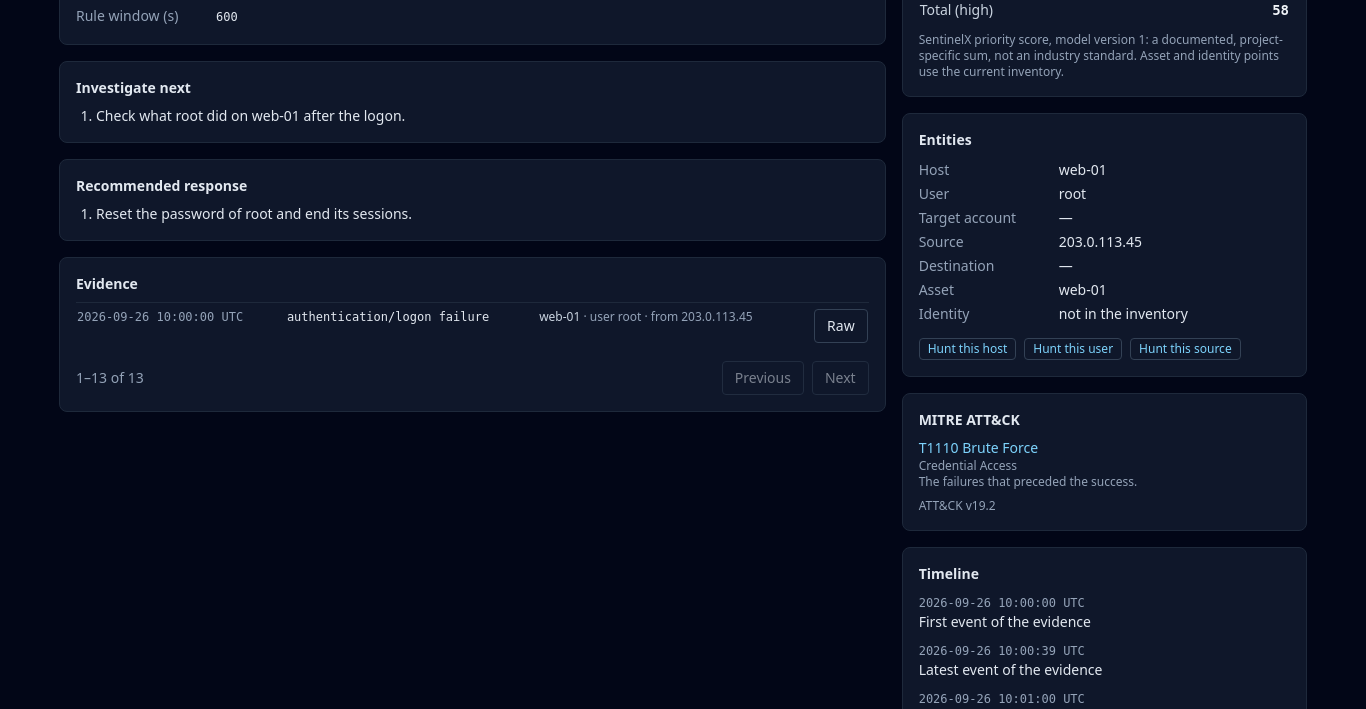
Alert page › shows raw evidence as text, never as HTML
(page scrolled)
Click the button "Raw".
click(841, 326)  # box [814, 309, 868, 343]
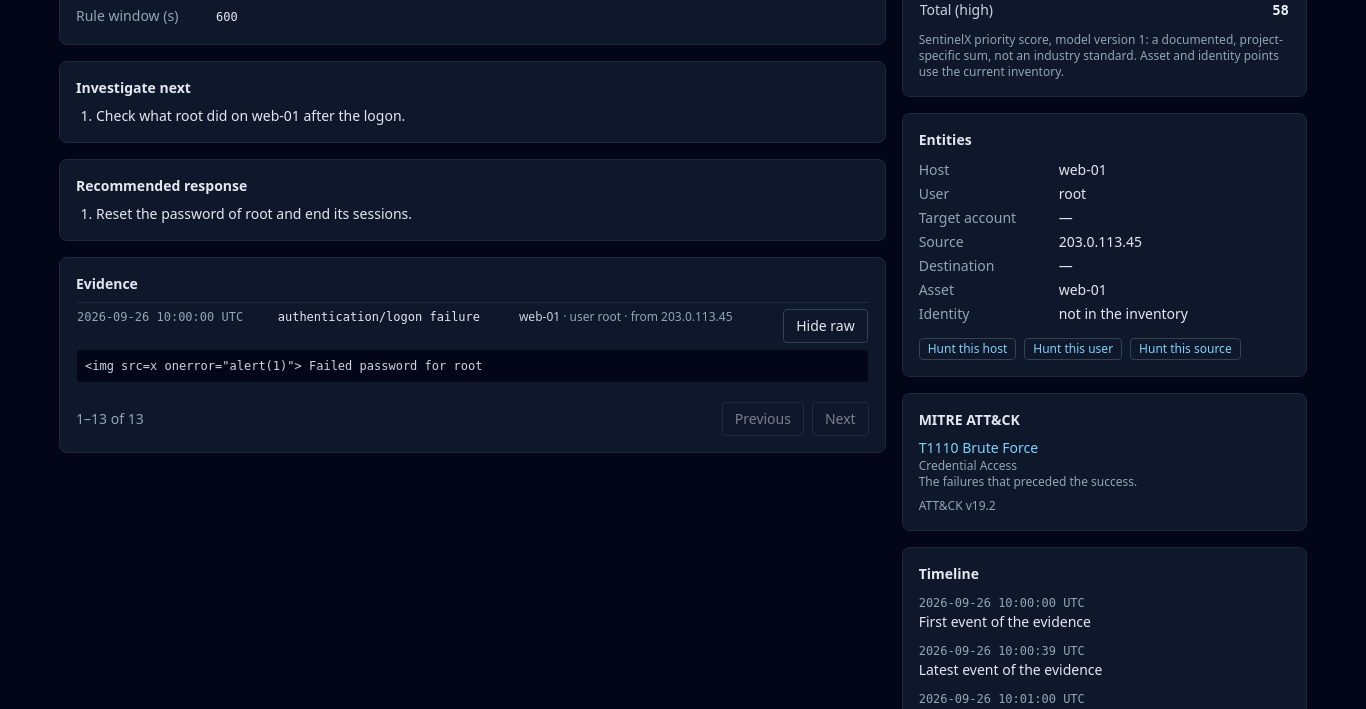
Check: the text "<img src=x onerror=\"alert(1)\"> Failed password for root" is shown, box [77, 350, 868, 382]
